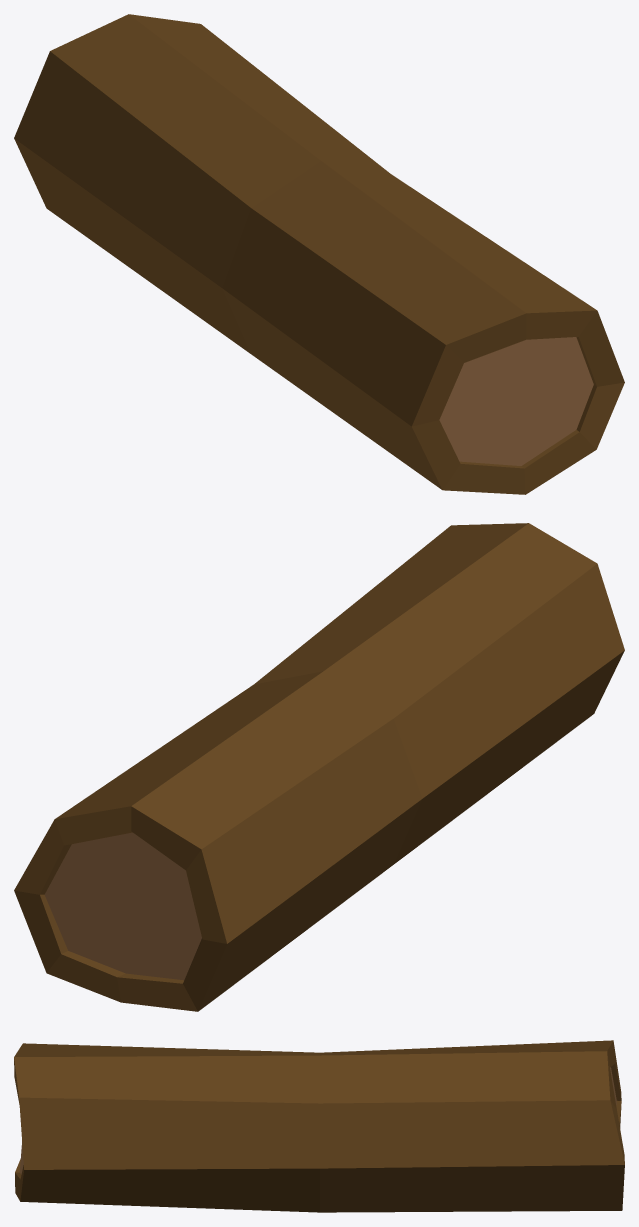
The model's file is Tronco_Acostado.fbx.
3 views of the same model, one above another, from view 1: azimuth 30°, elevation 25°; view 2: azimuth 150°, elevation 25°; view 3: azimuth 270°, elevation 25° (orthographic). The views are drawn at different scales.
Visible parts, largest first — view 1: Tronco acostado; view 2: Tronco acostado; view 3: Tronco acostado.
Boxes of the visible parts, left/top/right/bottom form: Tronco acostado: left=14, top=14, right=624, bottom=494; Tronco acostado: left=14, top=523, right=624, bottom=1011; Tronco acostado: left=14, top=1040, right=624, bottom=1212.
Bounding box in the file's own units: 125 × 110 × 420.
1 material, 1 textured.
